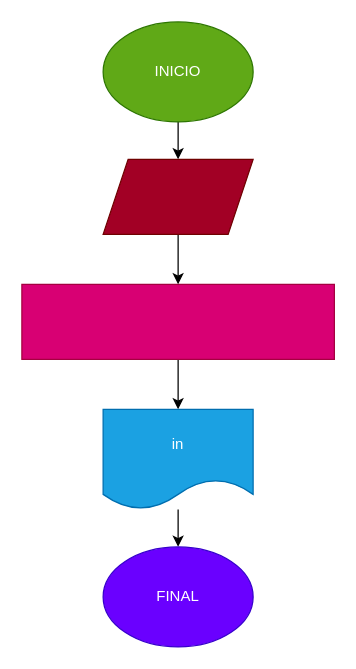
The diagram is 356 pixels wide and 669 high, and some of its shapes have lost their labels. Each missing label, with the centre of its shape:
r = ( n % 10 ) de = ( n // 10 ): [177,321]
r, de: [177,196]
